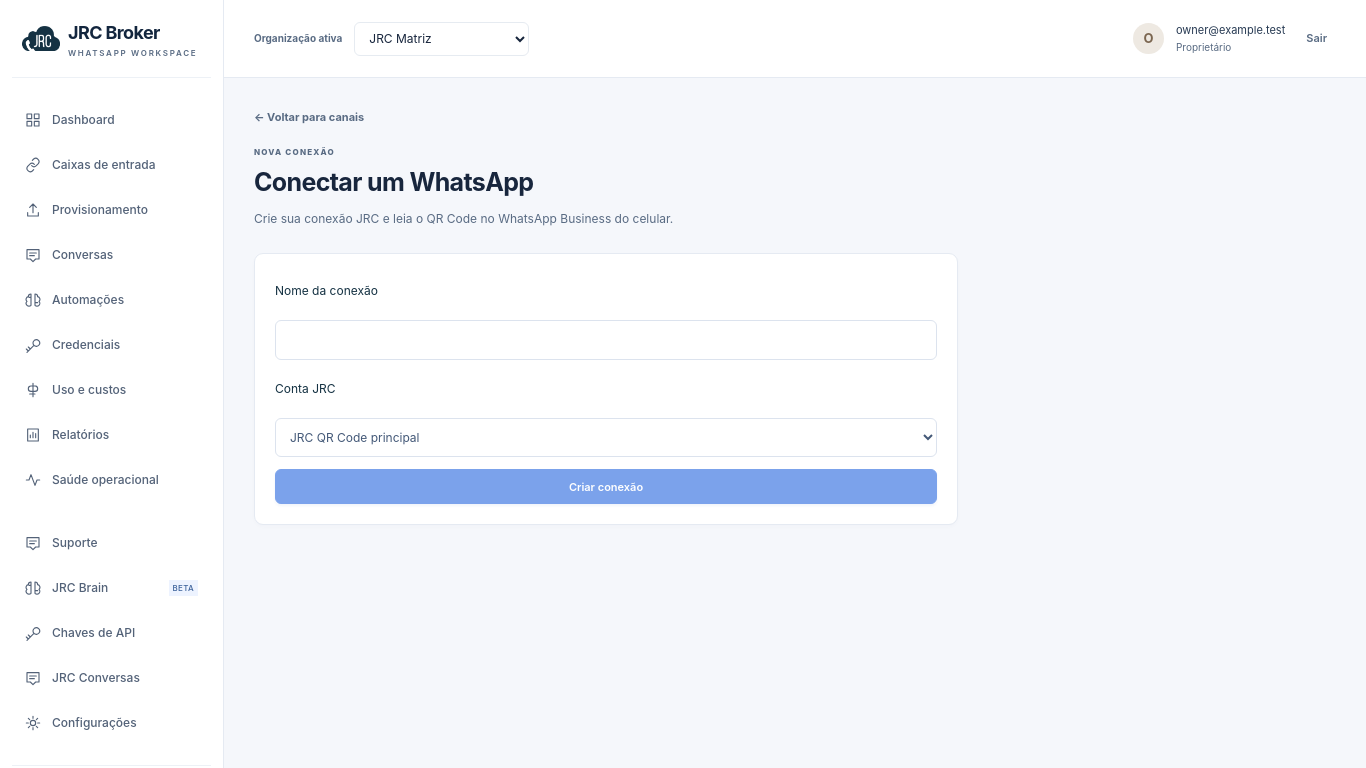
NewConnectionPage › descobre conta Baileys, cria com intenção em memória e abre o detalhe
Type "Atendimento" into the field labelled "Nome da conexão" at (606, 340), box [275,320,937,360]
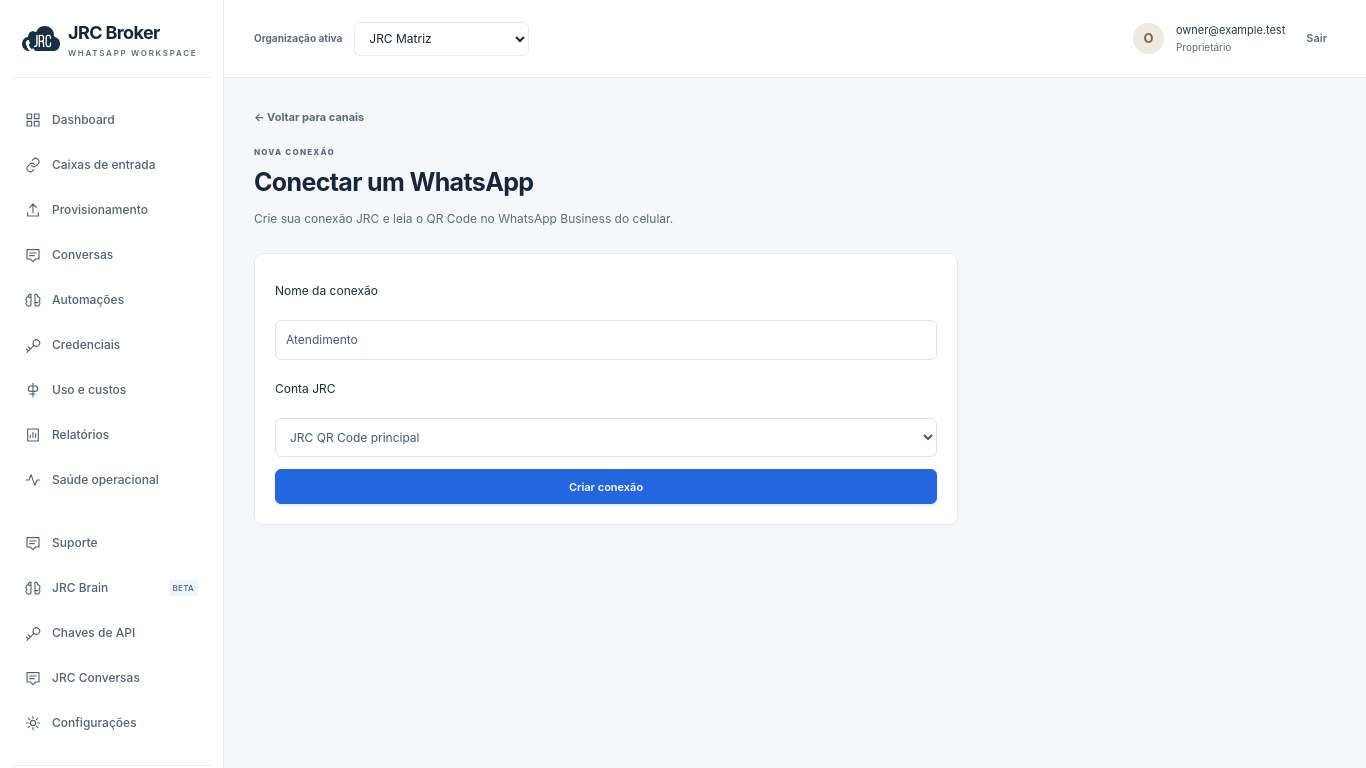
Click the button "Criar conexão" at (606, 487), box [275,470,937,504]
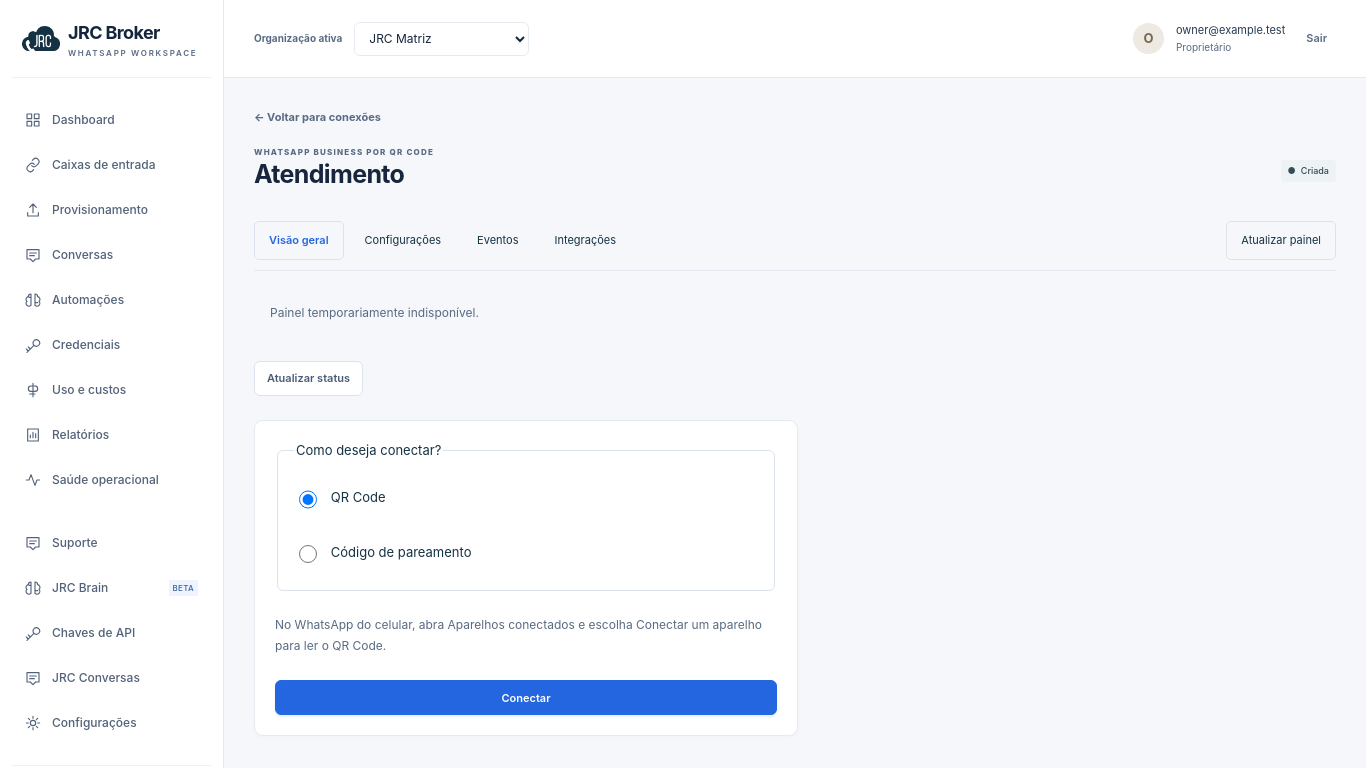
Result: the heading "Atendimento" is shown at [254,159,404,189]
